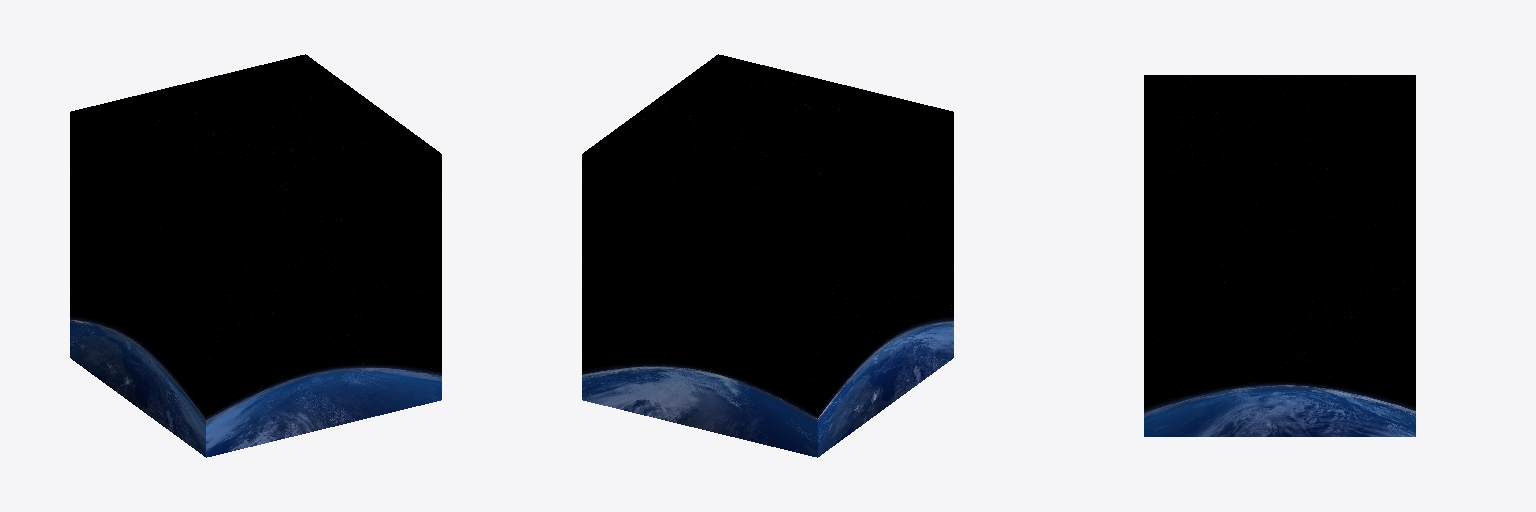
3 views of the same model, side by side, from view 1: azimuth 30°, elevation 25°; view 2: azimuth 150°, elevation 25°; view 3: azimuth 270°, elevation 25° (orthographic).
Size of the model in its own units: 1000 by 1001 by 1000.
Materials: 6 (6 with a texture image).